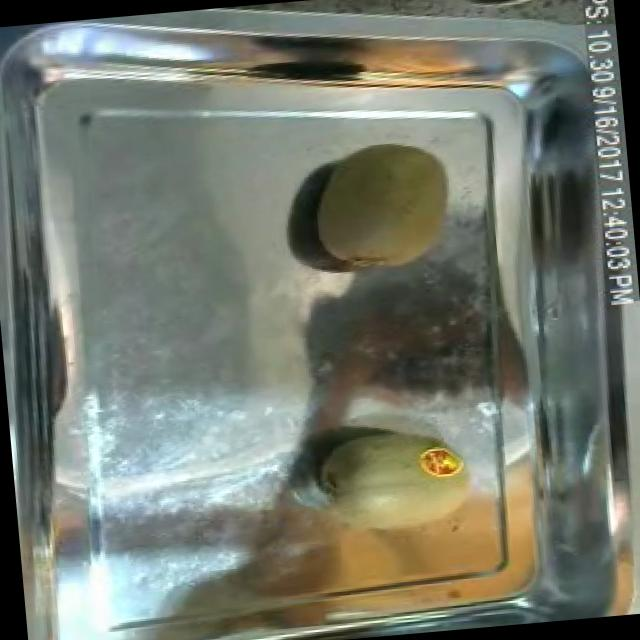Fruit: (250, 407, 512, 634), (297, 130, 465, 287)
